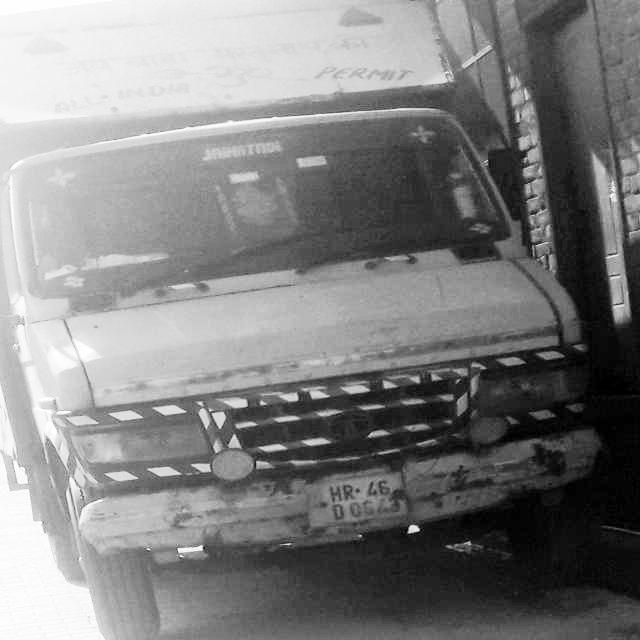HCV: (3, 13, 640, 640)
